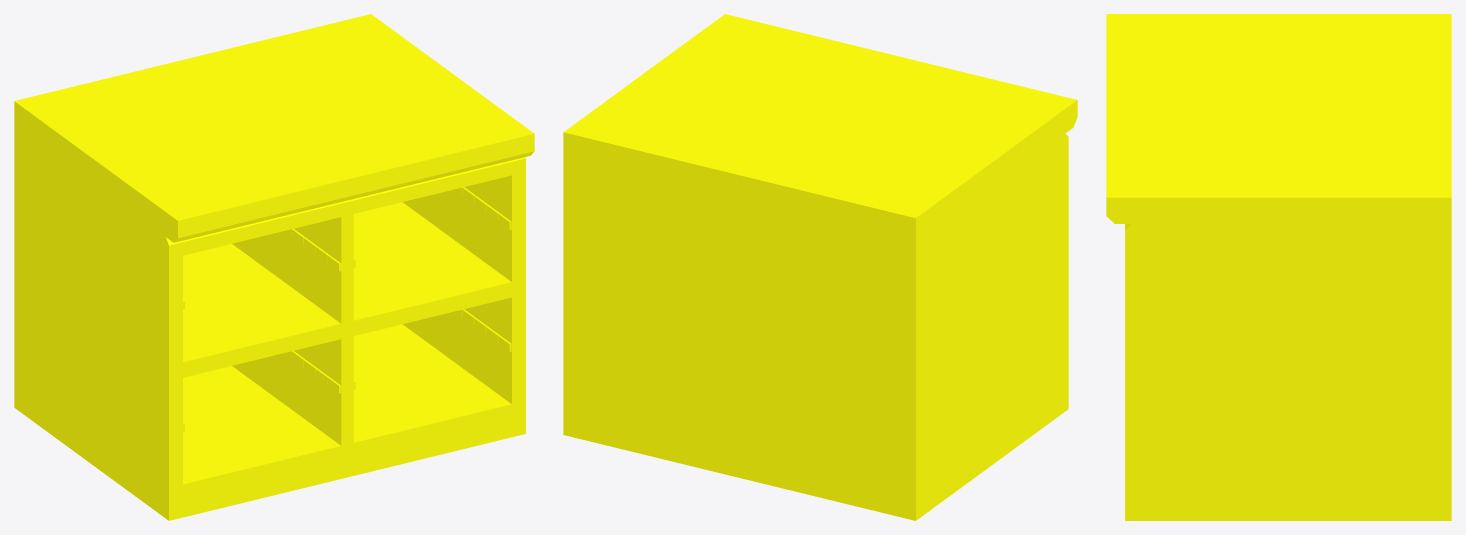
The model's file is SM_Drawer01.glb.
The picture shows the model from 3 angles, left to right: view 1: azimuth 30°, elevation 25°; view 2: azimuth 150°, elevation 25°; view 3: azimuth 270°, elevation 25°; orthographic projection. The views are drawn at different scales.
Parts seen in each view (by area): view 1: SM_Drawer01; view 2: SM_Drawer01; view 3: SM_Drawer01.
Part boxes in pixels (x1=…): SM_Drawer01: x1=14, y1=14, x2=534, y2=520; SM_Drawer01: x1=563, y1=14, x2=1077, y2=520; SM_Drawer01: x1=1106, y1=14, x2=1451, y2=520.
Size of what is drawn, in the model's own units: 1.13 by 0.927 by 0.8974.
1 material, 1 textured.
